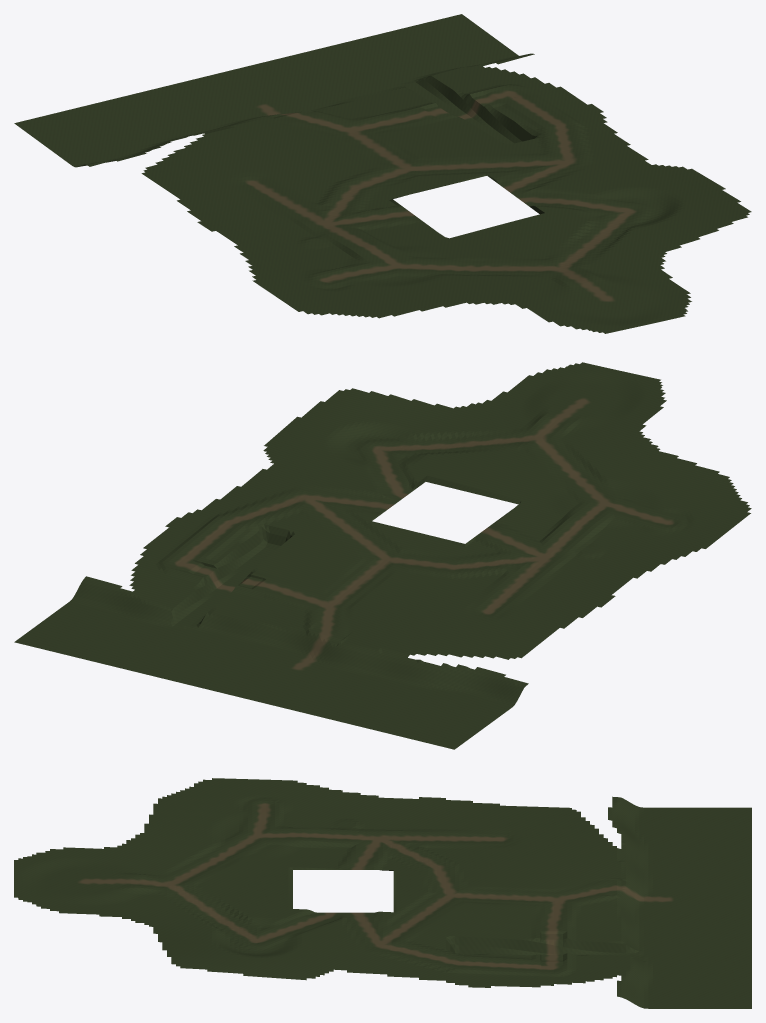
The model's file is level_camp_terrain_organic.glb.
3 renders of one model, top to bottom at view 1: azimuth 30°, elevation 25°; view 2: azimuth 150°, elevation 25°; view 3: azimuth 270°, elevation 25°, orthographic. The views are drawn at different scales.
Visible parts, largest first — view 1: level_camp_terrain_organic; view 2: level_camp_terrain_organic; view 3: level_camp_terrain_organic.
Boxes of the visible parts, left/top/right/bottom form: level_camp_terrain_organic: left=14, top=14, right=751, bottom=333; level_camp_terrain_organic: left=14, top=362, right=751, bottom=749; level_camp_terrain_organic: left=14, top=778, right=751, bottom=1008.
Bounding box in the file's own units: 67.38 × 5.11 × 102.
4 materials, 4 textured.
